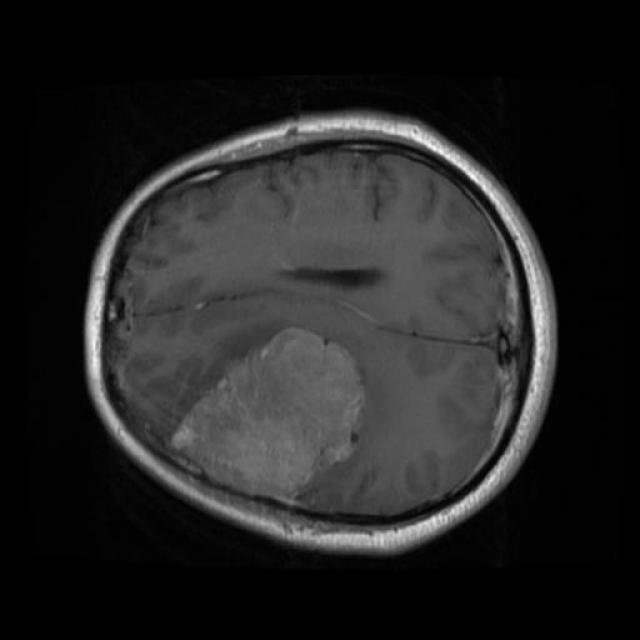Meningioma: (172, 328, 363, 504)
